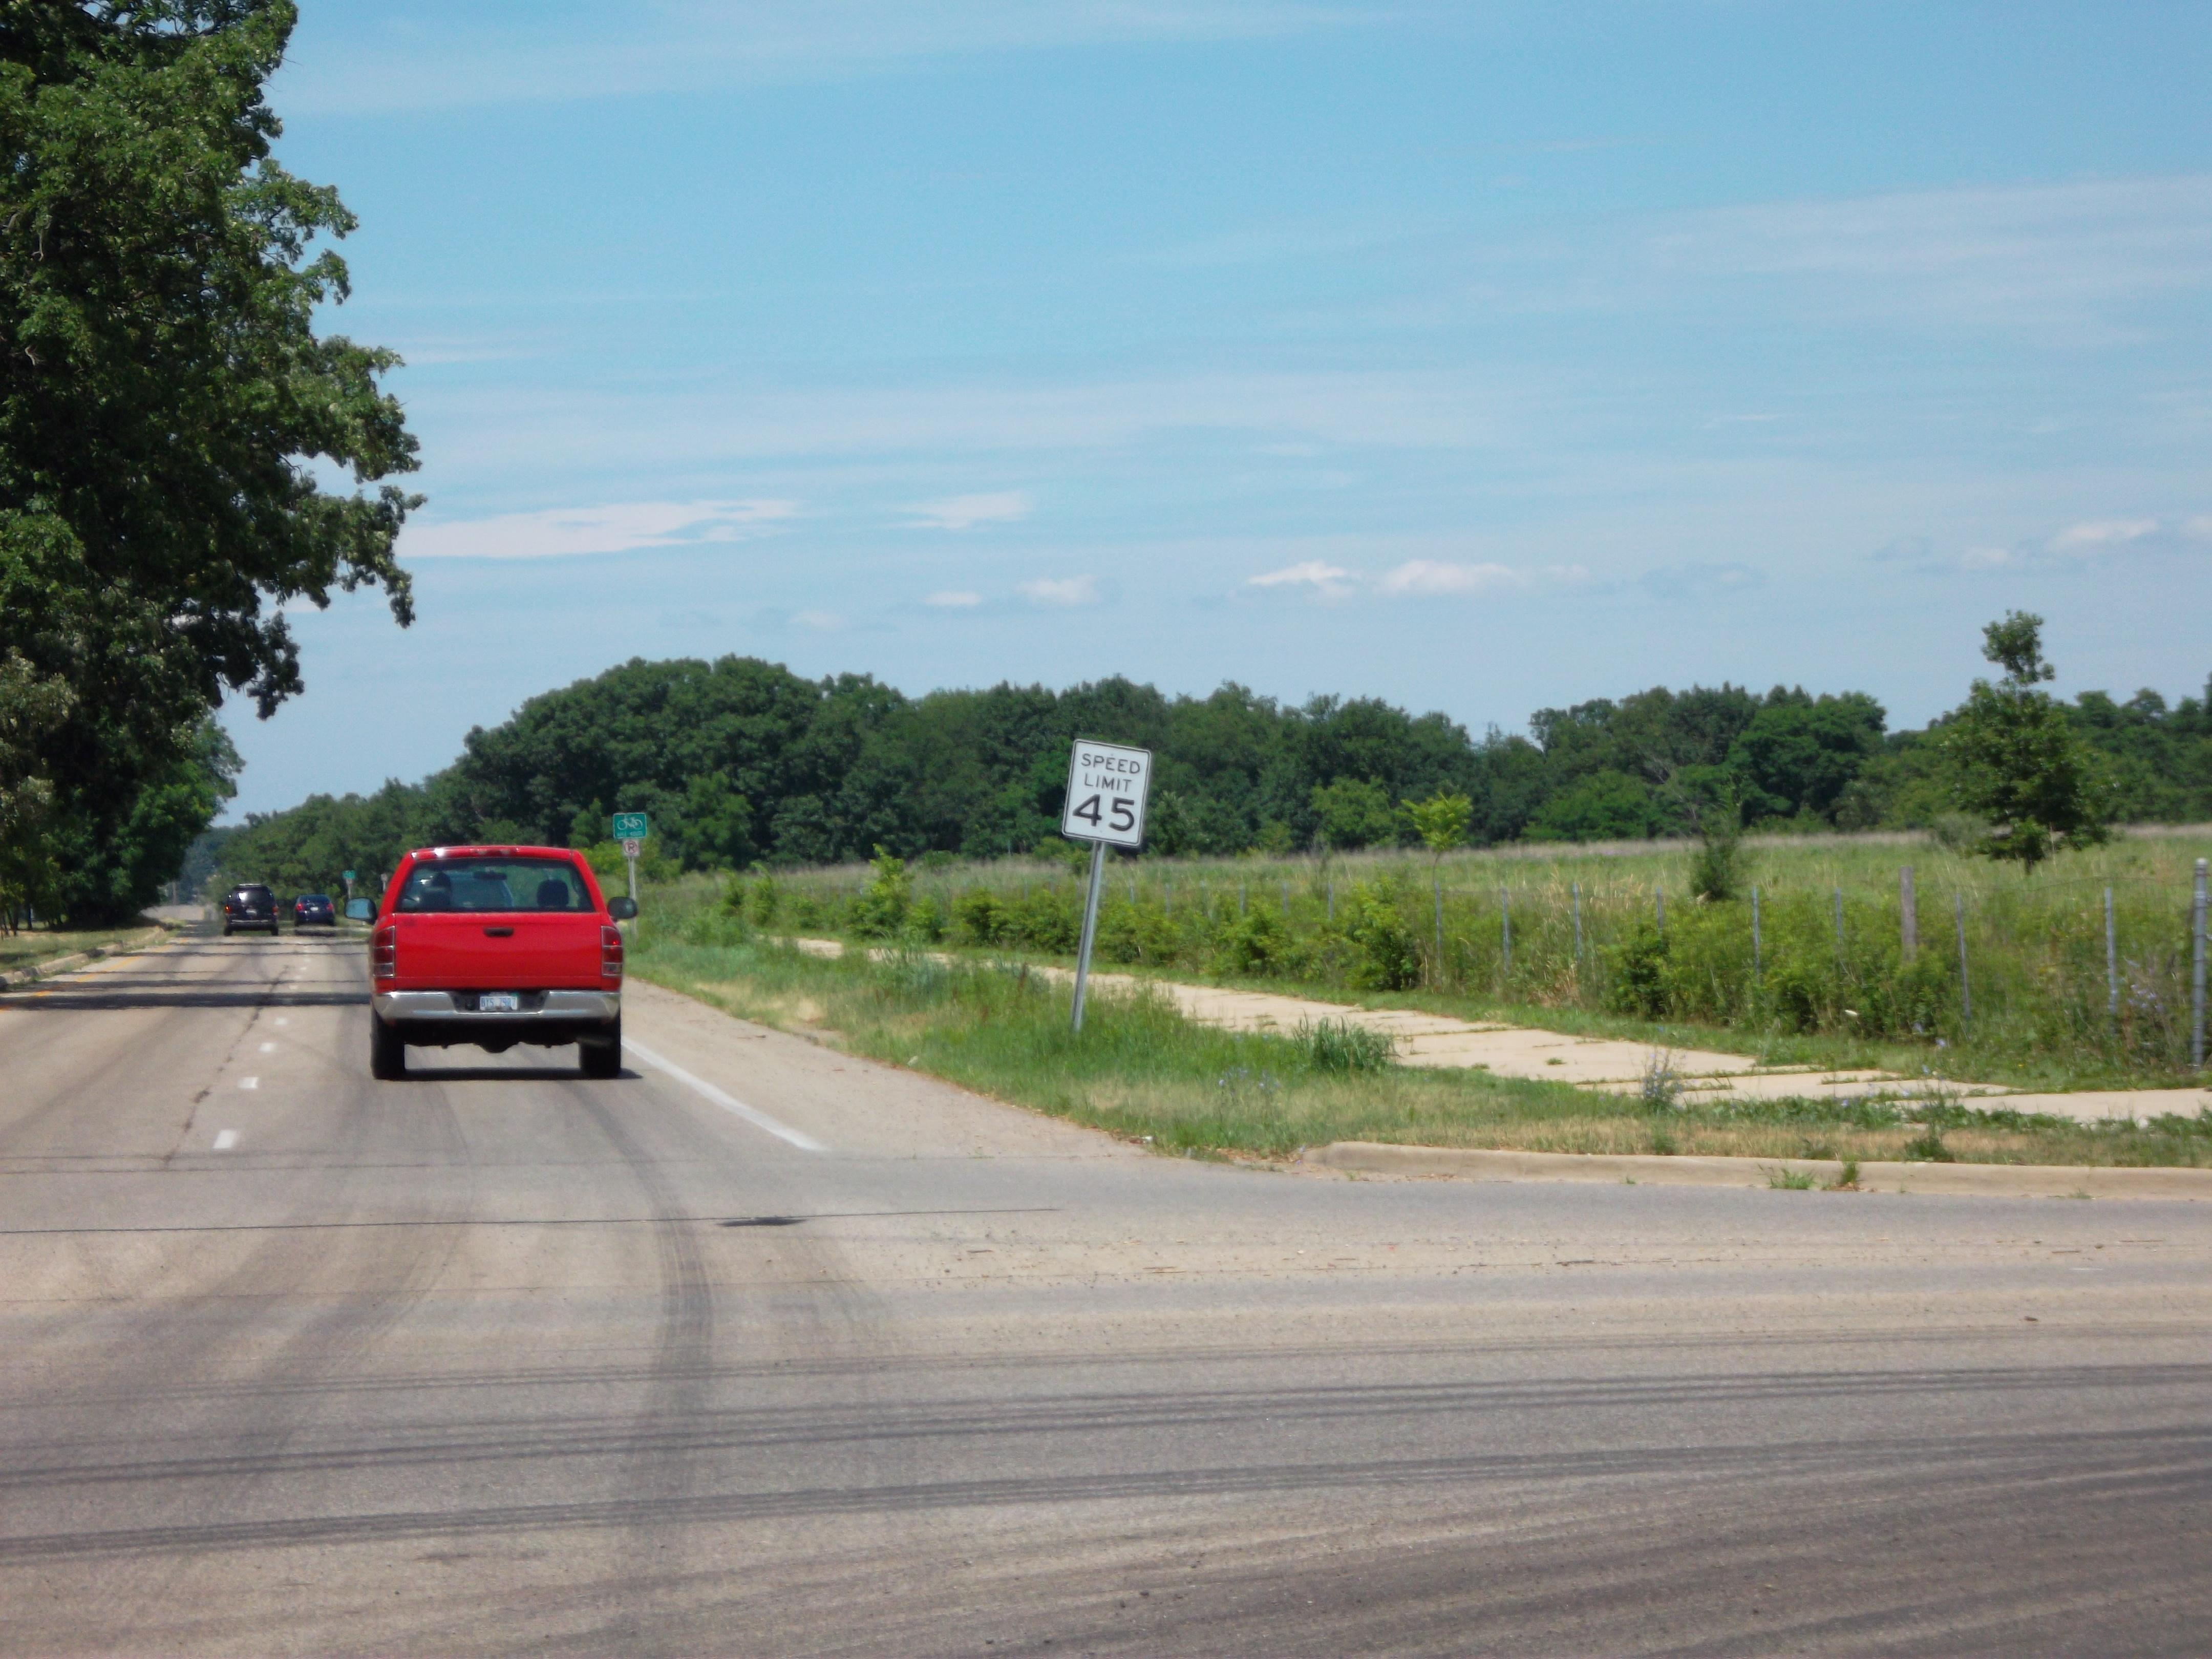regulatory: (1055, 718, 1163, 861), (1055, 720, 1160, 864)
